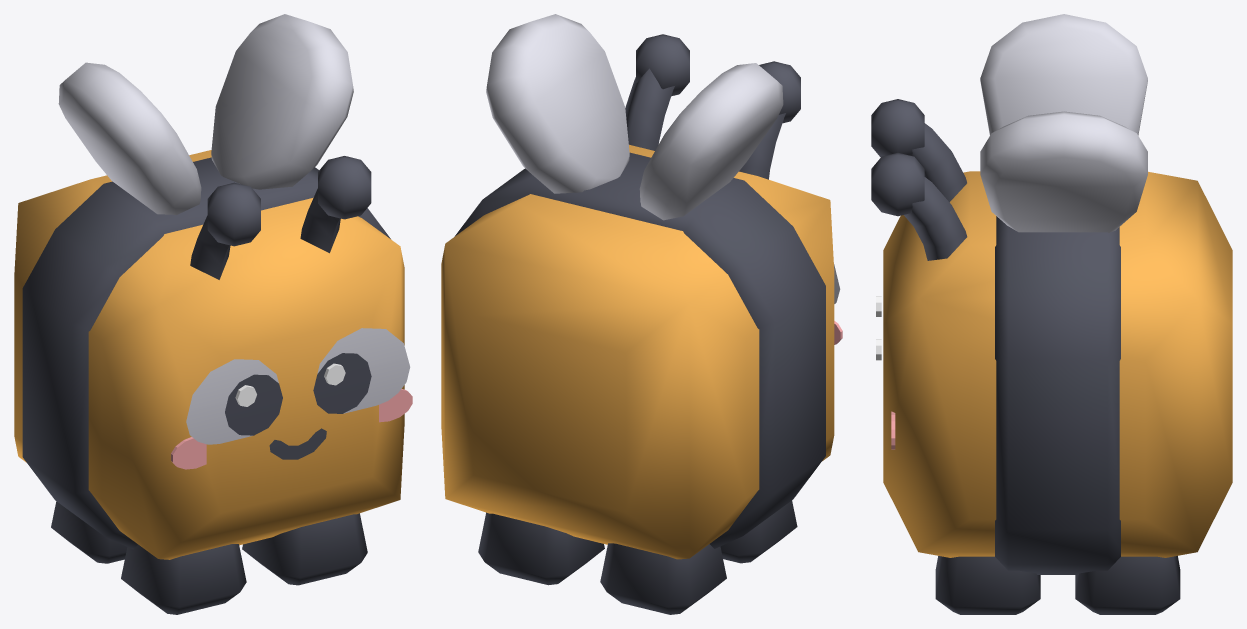
File: bee.glb
The picture shows the model from 3 angles, left to right: view 1: azimuth 30°, elevation 25°; view 2: azimuth 150°, elevation 25°; view 3: azimuth 270°, elevation 25°; orthographic projection.
Parts seen in each view (by area): view 1: body, wing-left, wing-right, leg-front-right, leg-front-left, leg-back-right; view 2: body, wing-left, wing-right, leg-back-right, leg-back-left, leg-front-right; view 3: body, wing-left, wing-right, leg-front-left, leg-back-left.
Part boxes in pixels (bbox=[...]): body: bbox=[14, 150, 412, 559]; wing-left: bbox=[211, 14, 353, 189]; wing-right: bbox=[58, 62, 201, 214]; leg-front-right: bbox=[121, 544, 246, 614]; leg-front-left: bbox=[242, 513, 367, 585]; leg-back-right: bbox=[51, 501, 127, 563]; body: bbox=[441, 34, 842, 559]; wing-left: bbox=[486, 14, 629, 193]; wing-right: bbox=[639, 63, 783, 220]; leg-back-right: bbox=[600, 543, 726, 614]; leg-back-left: bbox=[478, 512, 604, 585]; leg-front-right: bbox=[720, 500, 797, 563]; body: bbox=[871, 99, 1232, 574]; wing-left: bbox=[980, 111, 1147, 232]; wing-right: bbox=[980, 14, 1147, 135]; leg-front-left: bbox=[935, 556, 1040, 614]; leg-back-left: bbox=[1075, 556, 1180, 614].
Bounding box in the file's own units: 1.33 × 2 × 1.29.
1 material, 1 textured.
